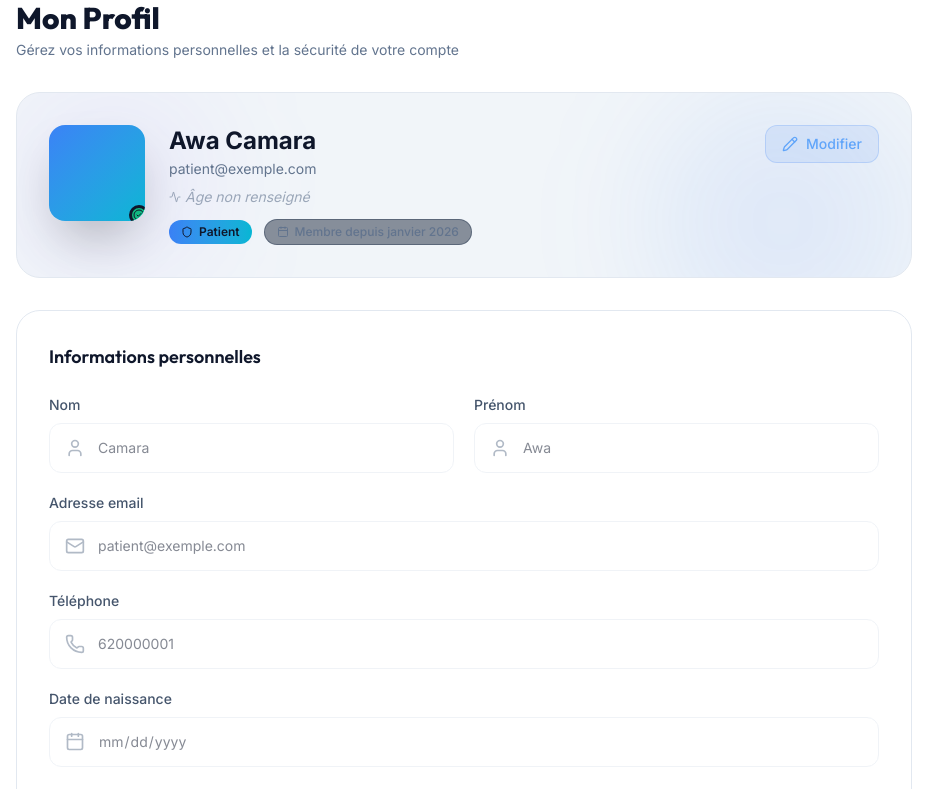
Test: Profil : téléphone › garde le bandeau quand seul l'email est refusé
Click the button "Modifier" at x=822, y=144, box [765,125,879,163]
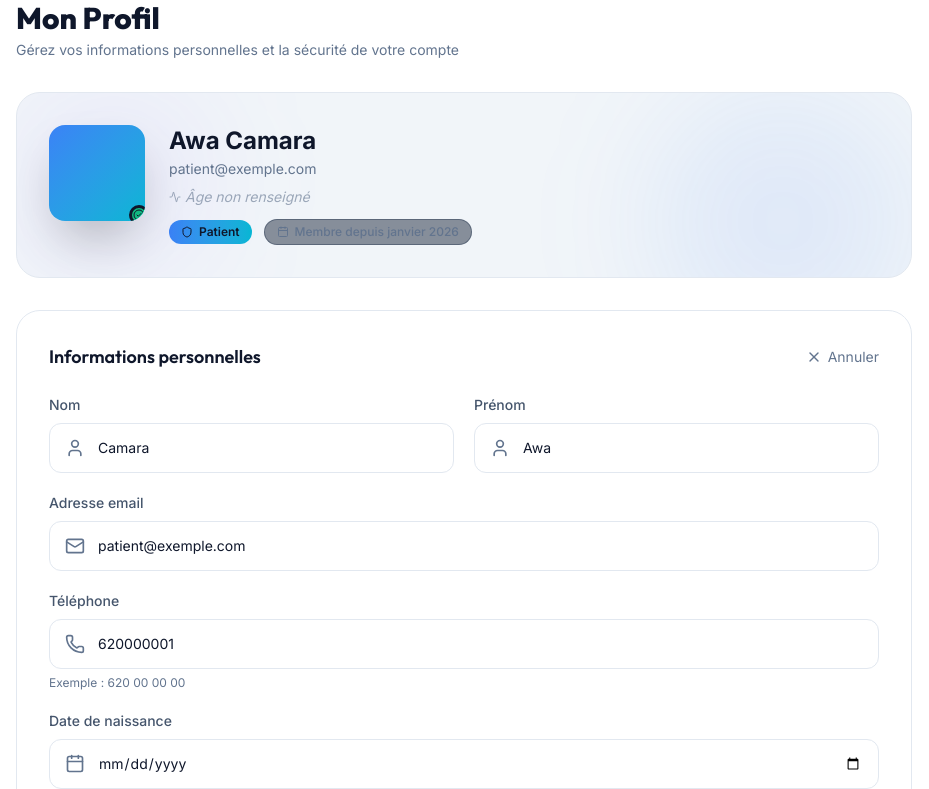
Replace the text in the field labelled "Téléphone" with "620000002" at x=464, y=644, box [49,619,879,669]
(page scrolled)
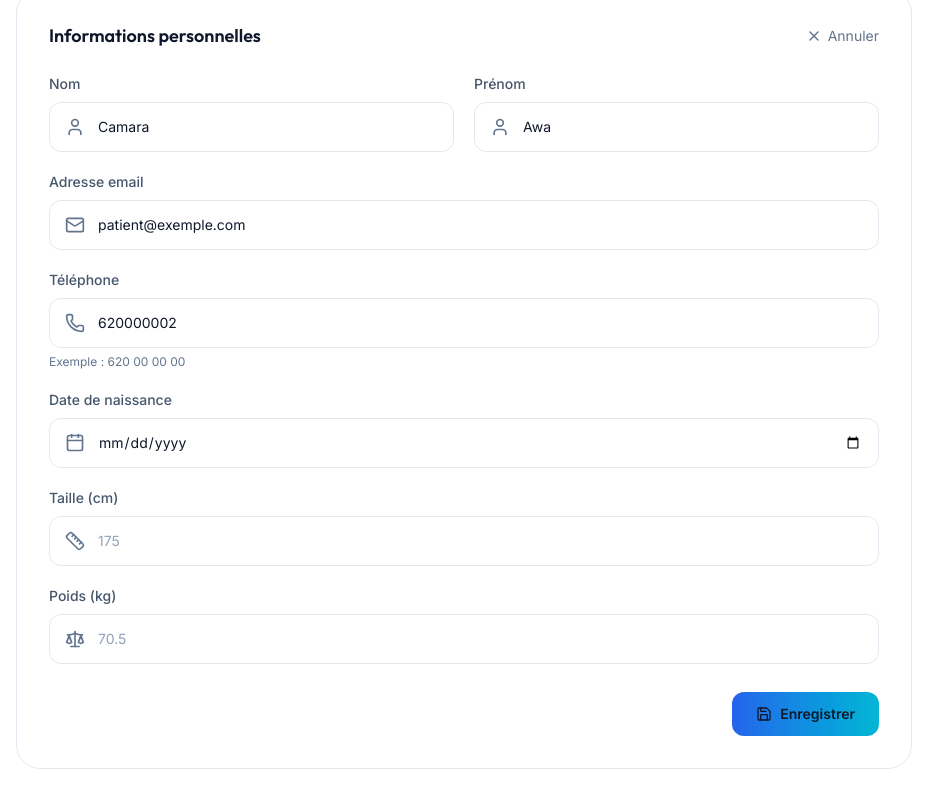
Submit the form named "Enregistrer"
(page scrolled)
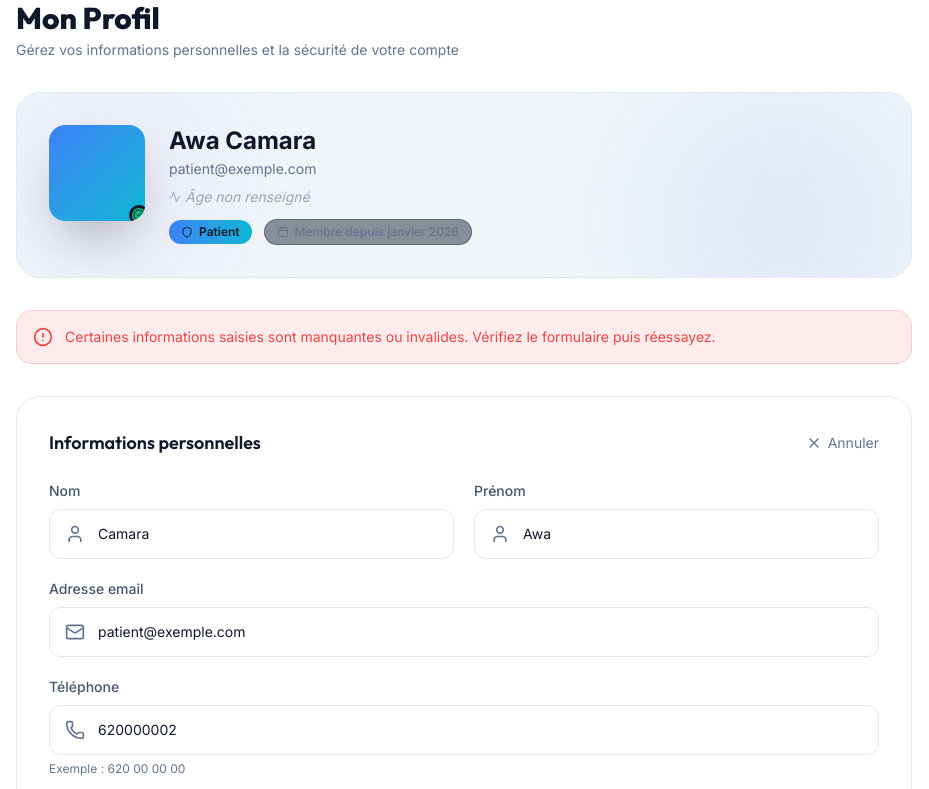
expect the text "Certaines informations saisies sont manquantes ou invalides. Vérifiez le formulaire puis réessayez." is shown: met, box [65,328,716,345]
